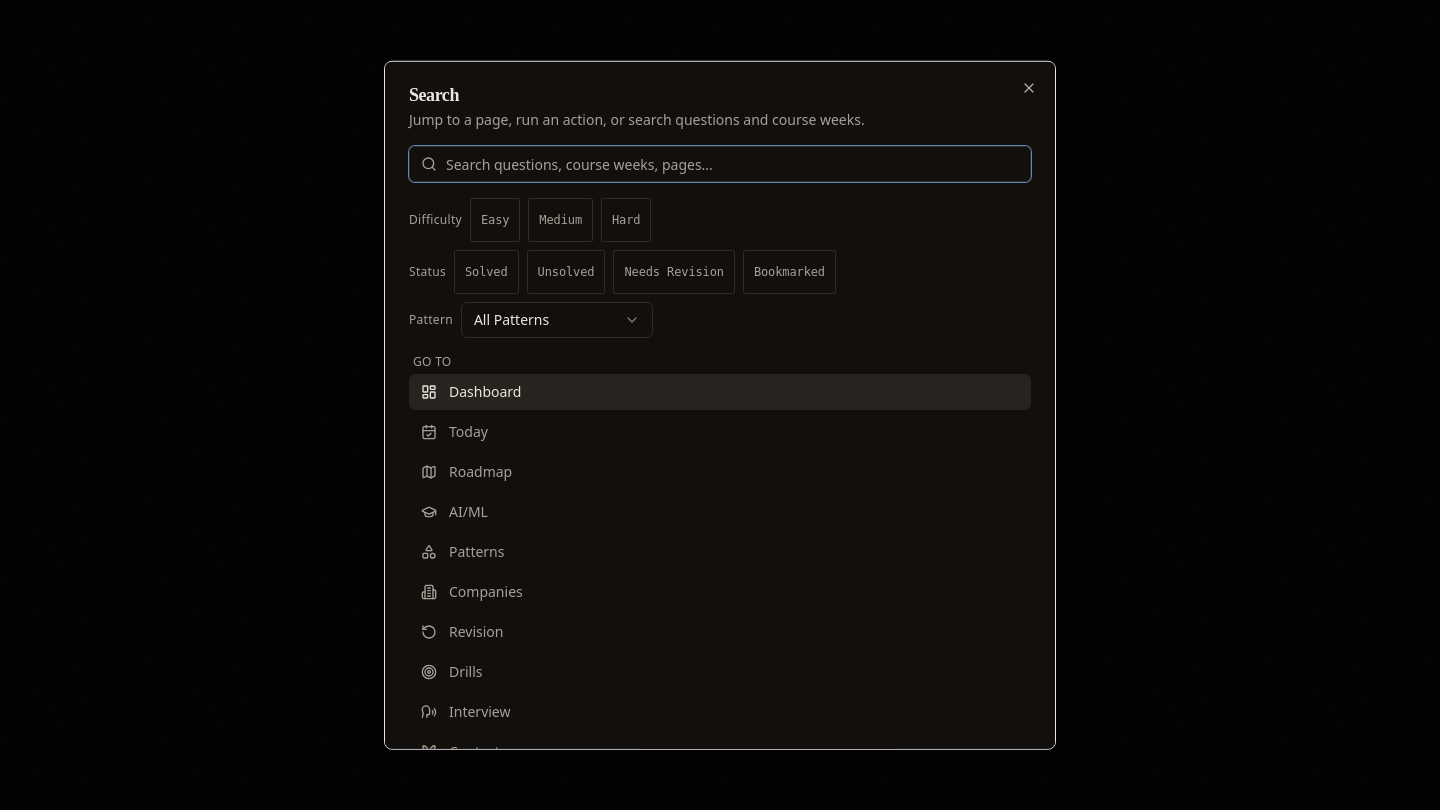
Test: SearchDialog › status chip "Bookmarked" filters to bookmarked questions with no query needed
This screenshot has width=1440, height=810.
Click the button "Bookmarked".
click(789, 272)  # box x1=743 y1=250 x2=836 y2=294
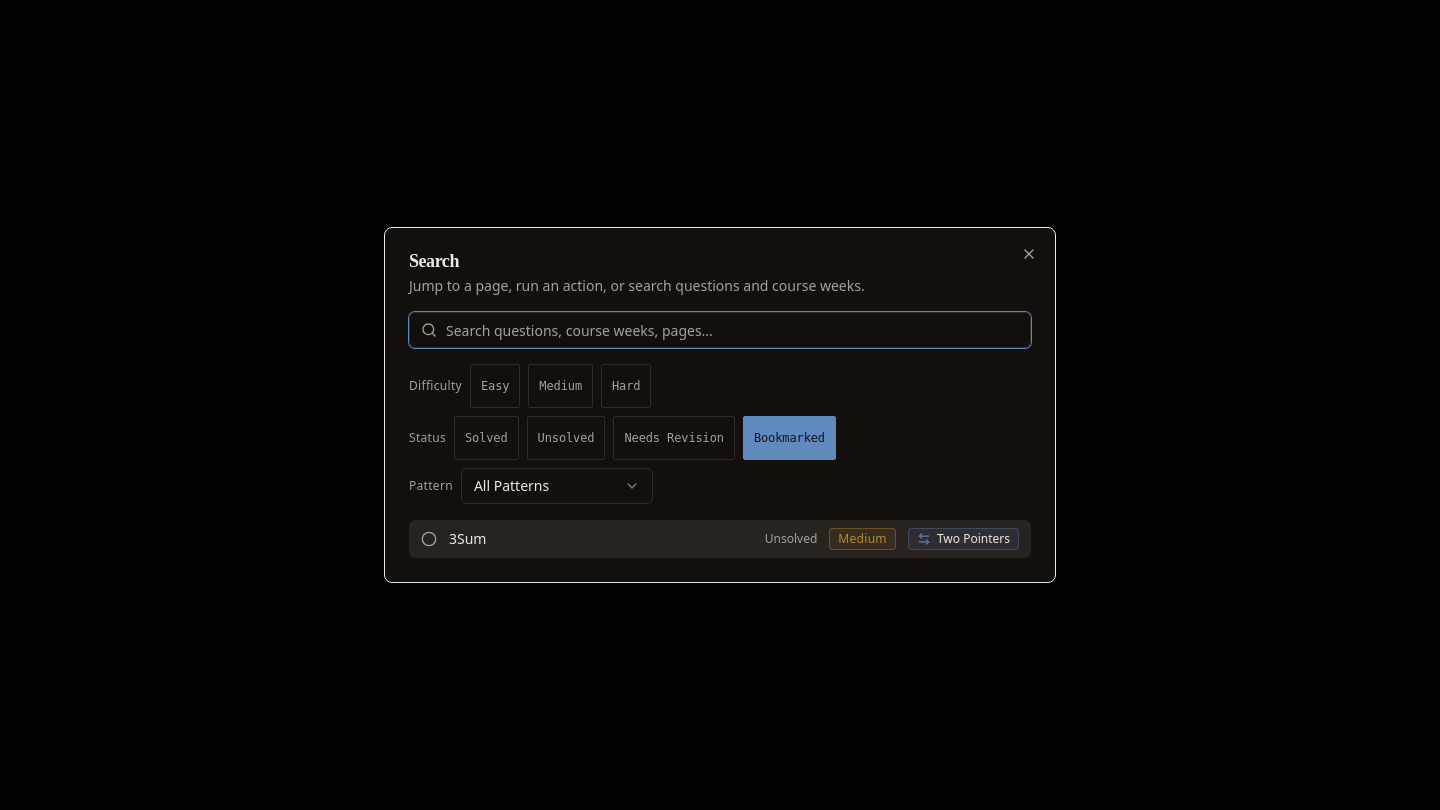
expect the number of options "3Sum Unsolved Medium Two Pointers" is 1: met, box x1=409 y1=520 x2=1031 y2=558
